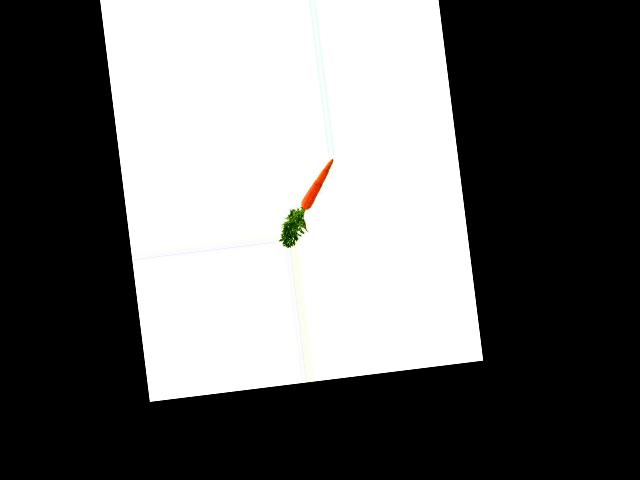carrot: (294, 157, 341, 215)
